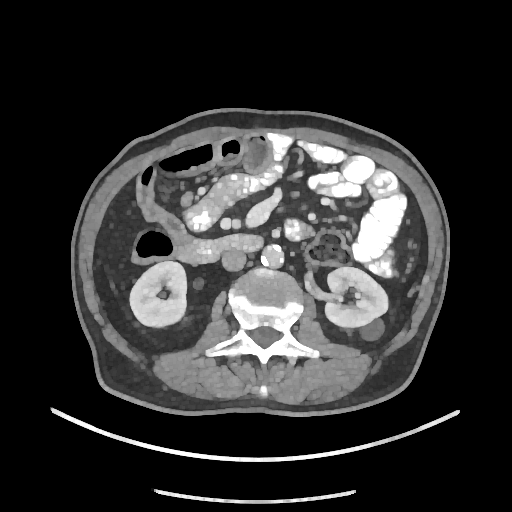Lesion: (357, 319, 389, 344)
